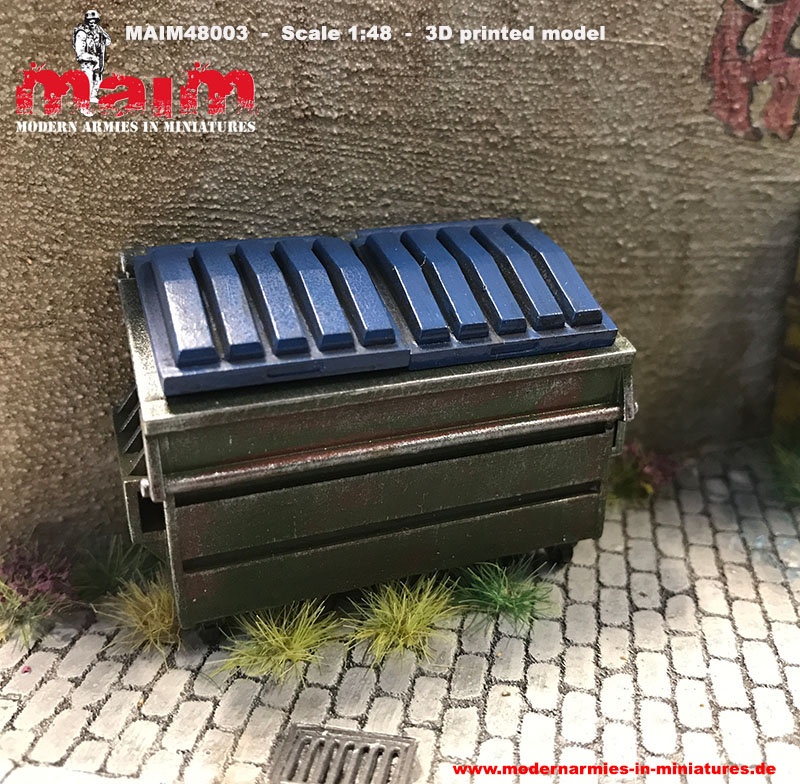Dumpster: (110, 215, 646, 644)
